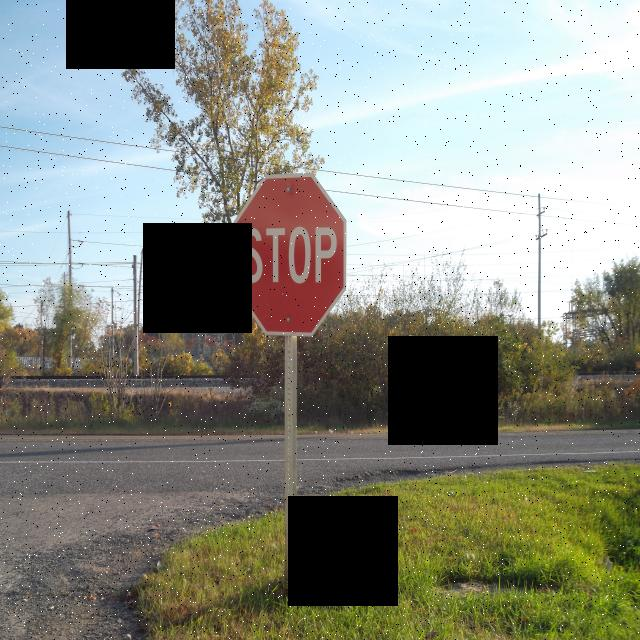stop: (229, 165, 352, 344)
